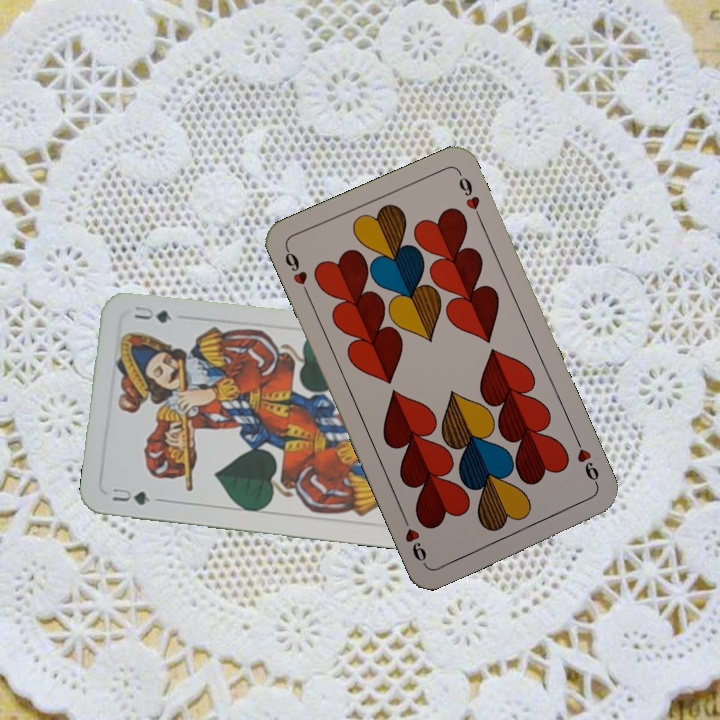GU: (108, 484, 153, 508)
H9: (280, 244, 313, 300), (571, 434, 602, 490)
